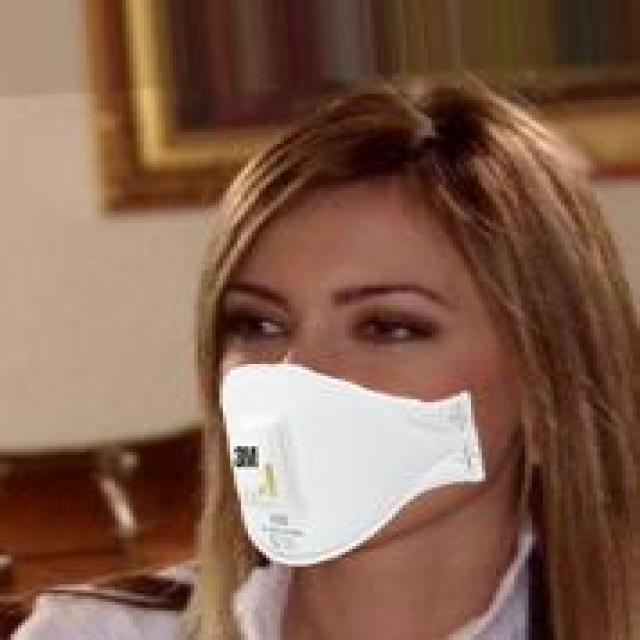mask: (129, 44, 622, 573)
